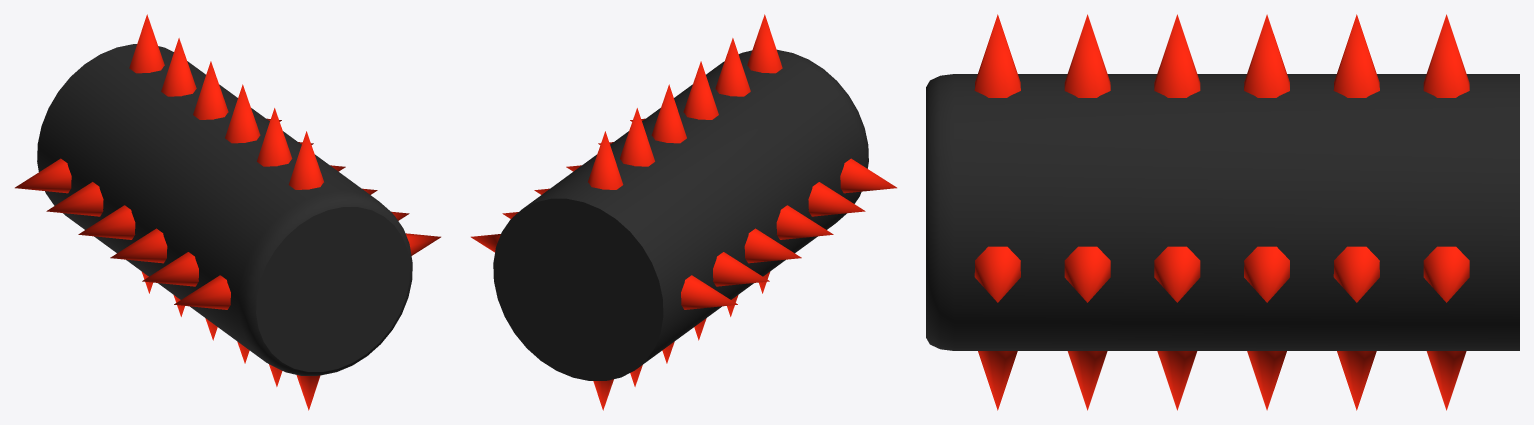
Rendered from banhrang.fbx.
3 renders of one model, left to right at view 1: azimuth 30°, elevation 25°; view 2: azimuth 150°, elevation 25°; view 3: azimuth 270°, elevation 25°, orthographic. The views are drawn at different scales.
Parts seen in each view (by area): view 1: CylinderObstacle.001; view 2: CylinderObstacle.001; view 3: CylinderObstacle.001.
Part boxes in pixels (x1,y1,x2,y2): CylinderObstacle.001: [15, 14, 440, 410]; CylinderObstacle.001: [471, 14, 896, 410]; CylinderObstacle.001: [926, 14, 1519, 410].
Size of the model in its own units: 201 by 201 by 273.
